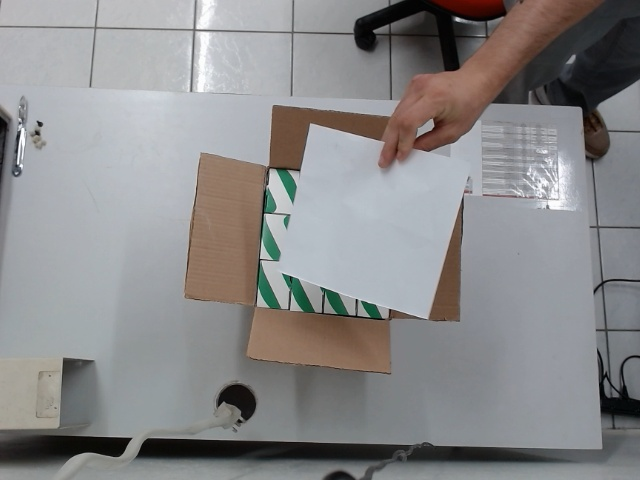divisor: (284, 120, 472, 321)
item: (253, 258, 293, 312), (263, 162, 303, 212), (261, 212, 294, 260), (290, 277, 326, 319), (320, 284, 359, 319), (354, 297, 391, 323)
